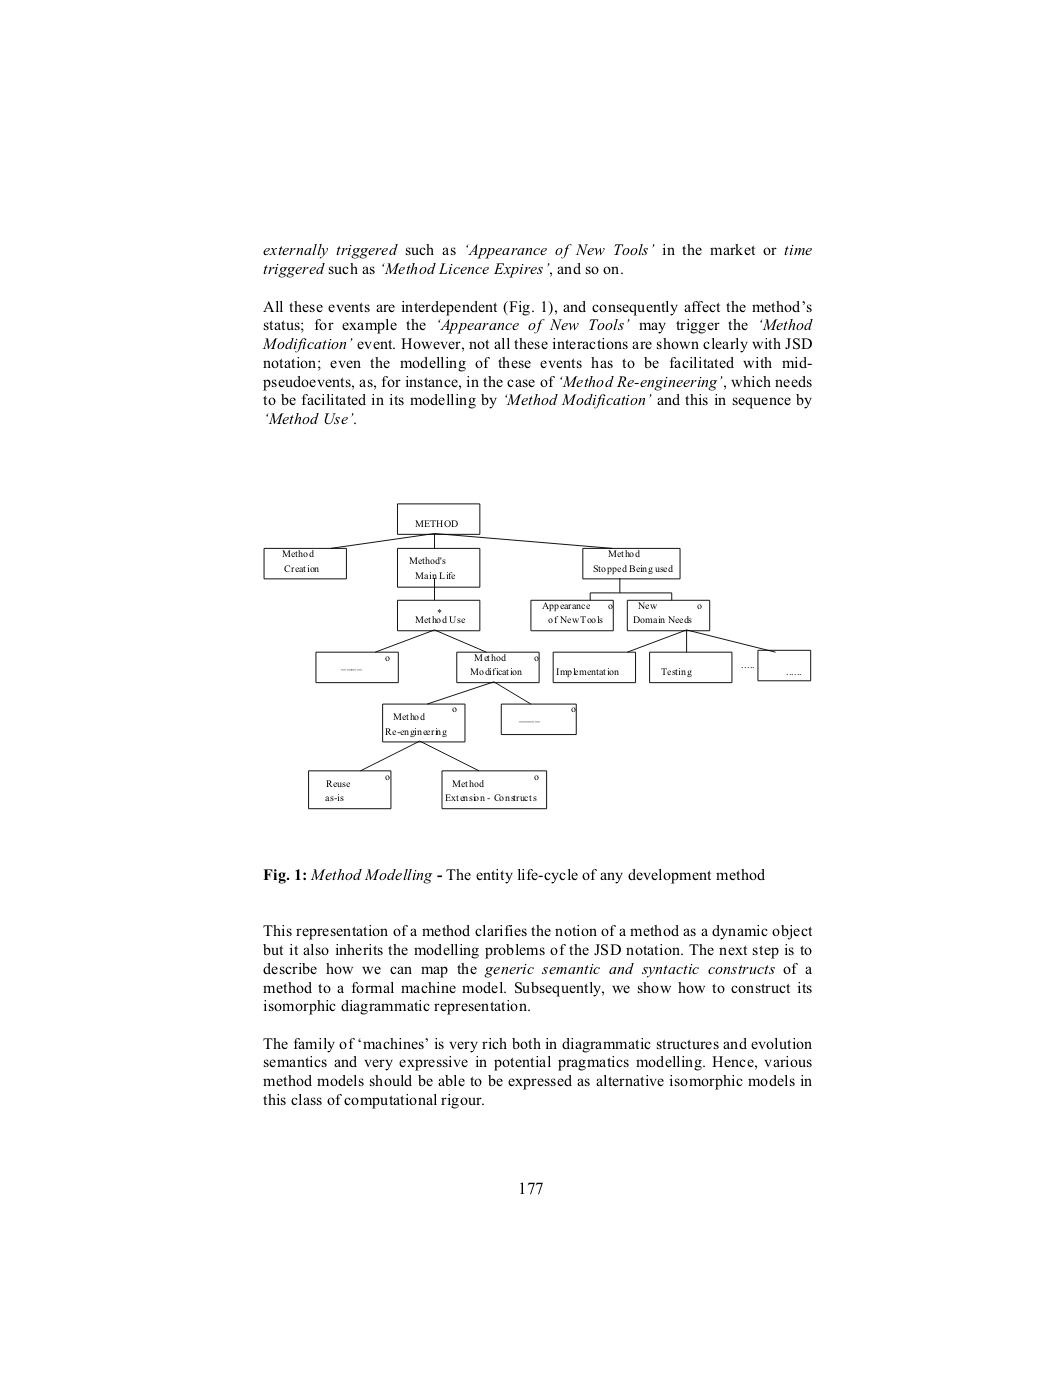figure: (263, 502, 811, 810)
